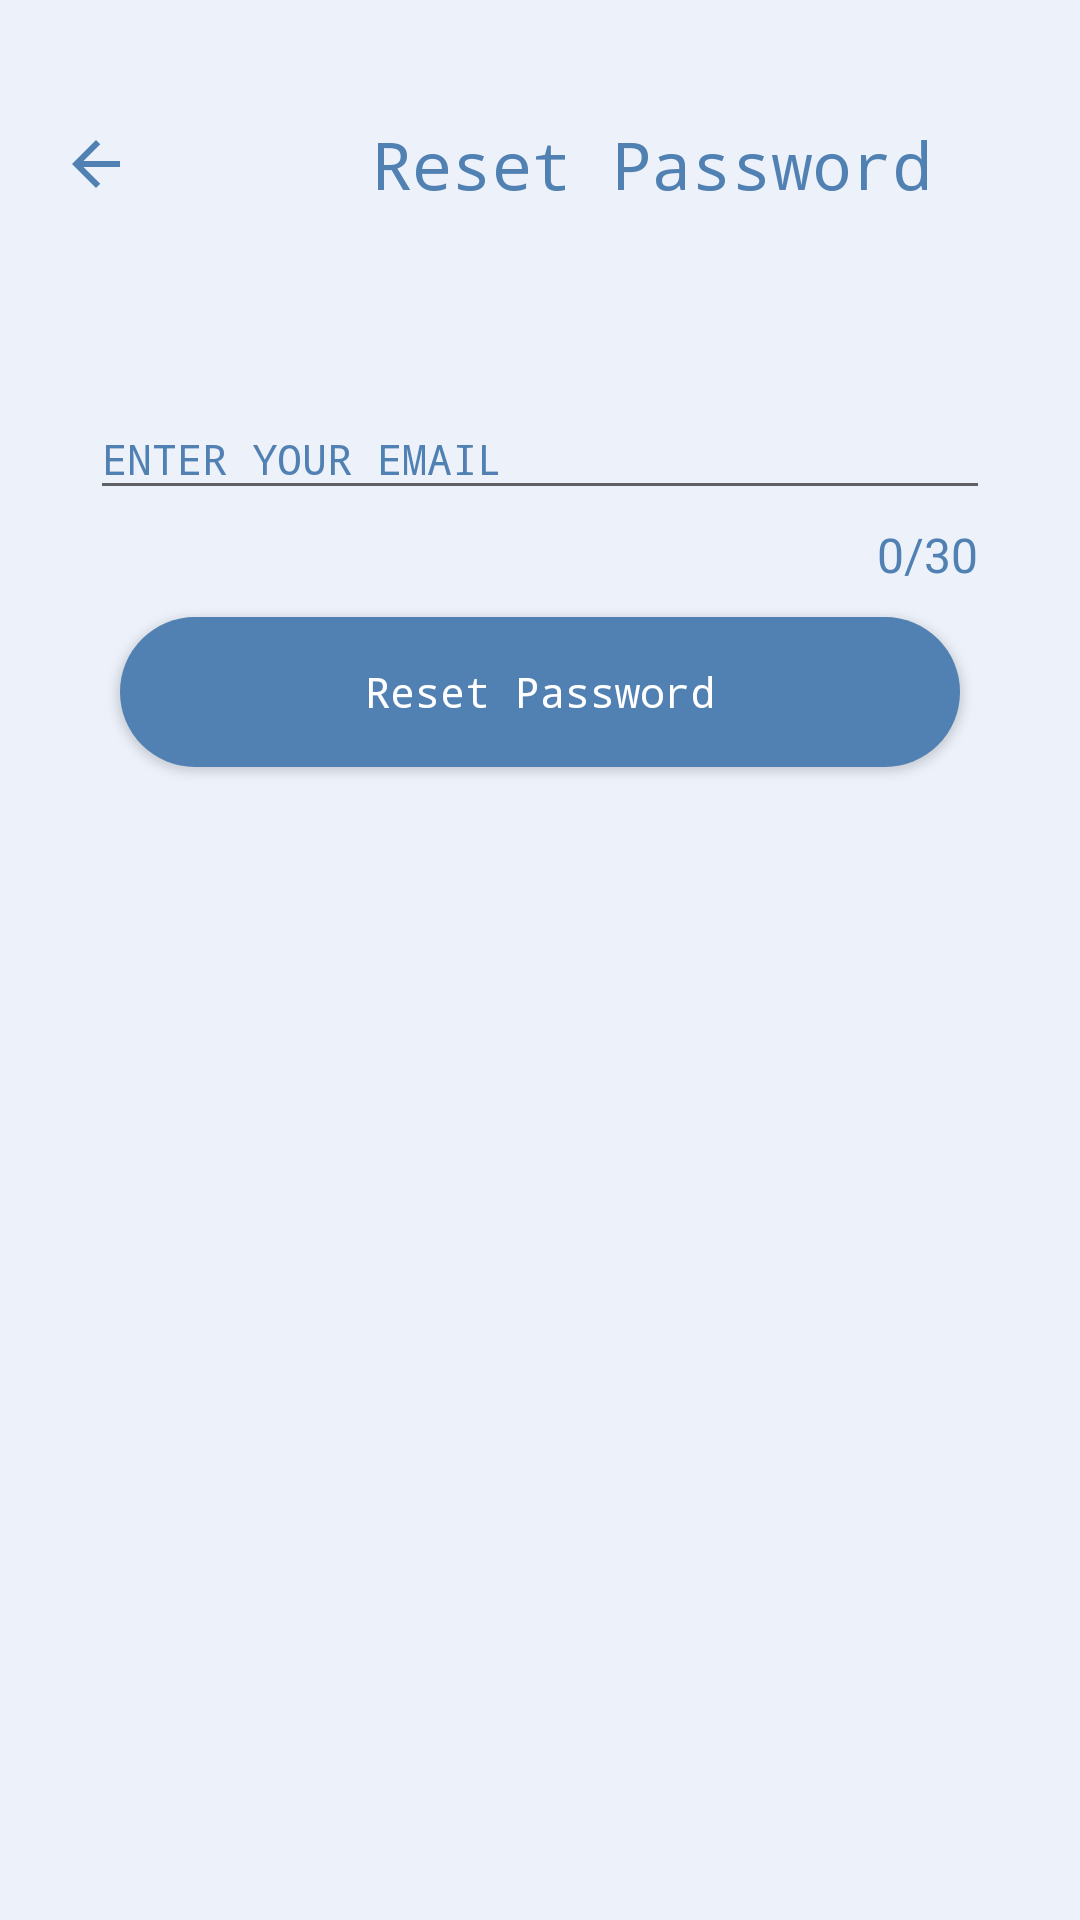

Point at icon controls on the screen. Image size 1080*1920, points as (x,y).
arrow back: (96,164)
